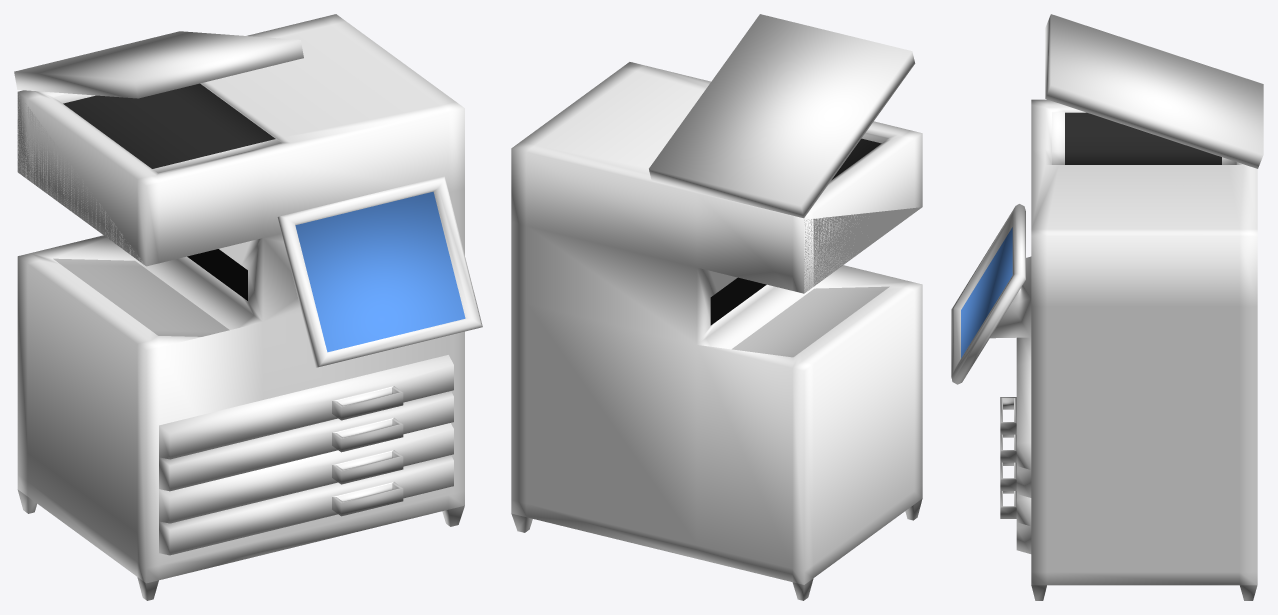
File: GAMEJAMHERO - Prop(Printer).fbx
The picture shows the model from 3 angles, left to right: view 1: azimuth 30°, elevation 25°; view 2: azimuth 150°, elevation 25°; view 3: azimuth 270°, elevation 25°; orthographic projection. The views are drawn at different scales.
Parts seen in each view (by area): view 1: Plane.004; view 2: Plane.004; view 3: Plane.004.
Part boxes in pixels (box(x1,y1,x2,y2)): Plane.004: box(14, 14, 482, 600); Plane.004: box(511, 14, 922, 600); Plane.004: box(951, 14, 1263, 600).
Bounding box in the file's own units: 160 × 247 × 155.
1 material, 1 textured.
